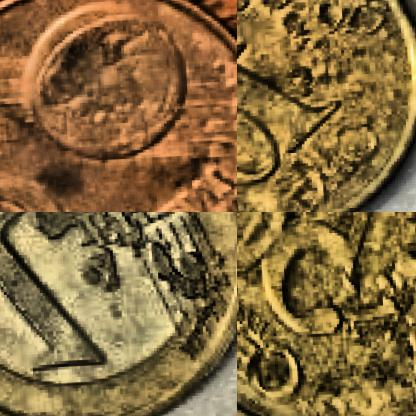coin: (0, 0, 236, 211), (0, 212, 236, 415), (237, 0, 415, 211), (237, 212, 415, 415)
